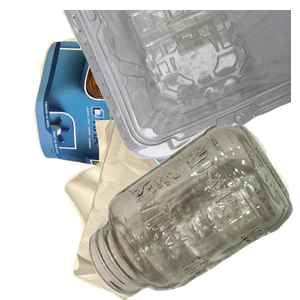glass: (86, 126, 300, 300)
paper: (31, 34, 252, 205)
plastic: (60, 10, 300, 162)
trash: (62, 120, 251, 300)
